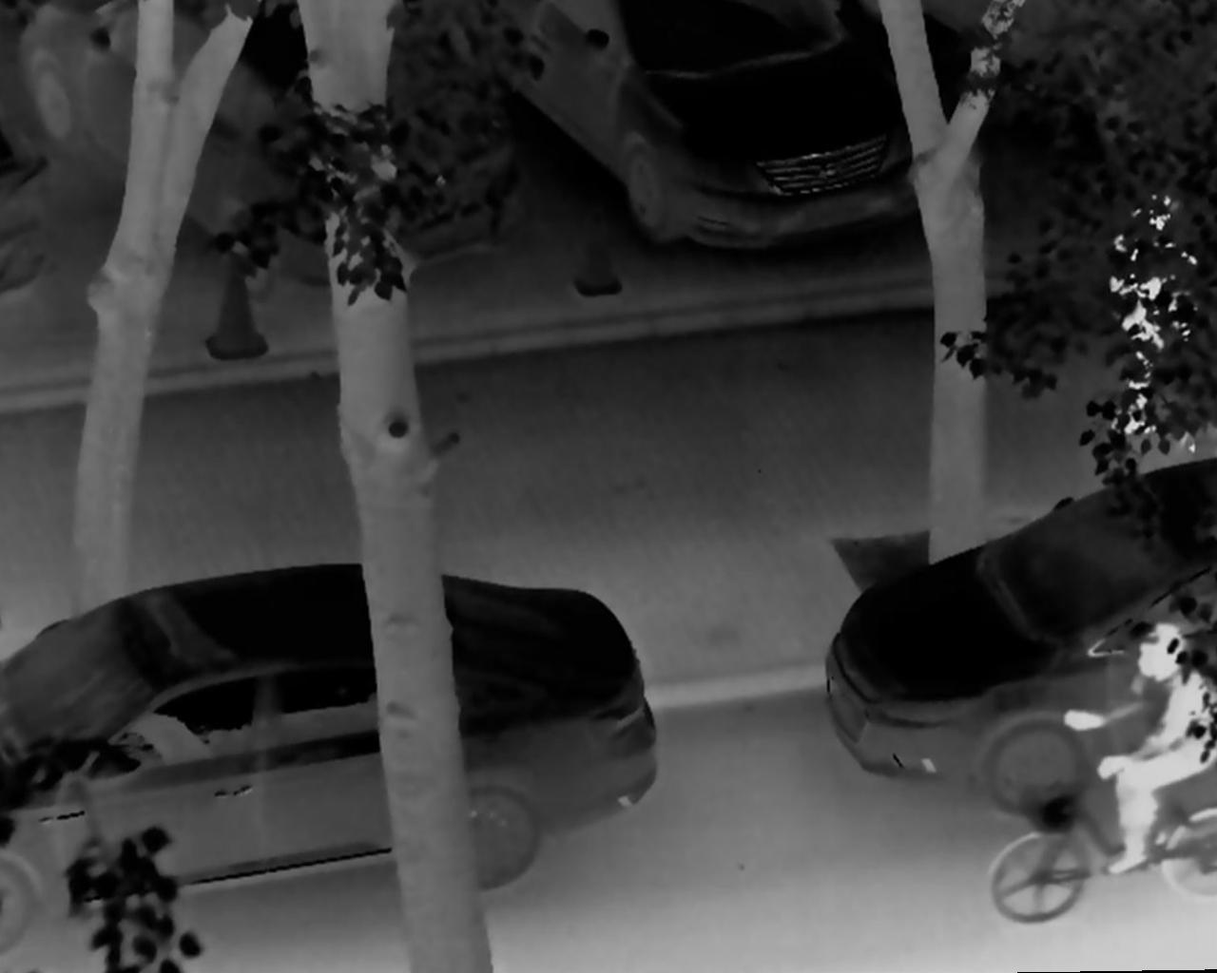person: (1062, 621, 1217, 877), (1100, 164, 1205, 454)
